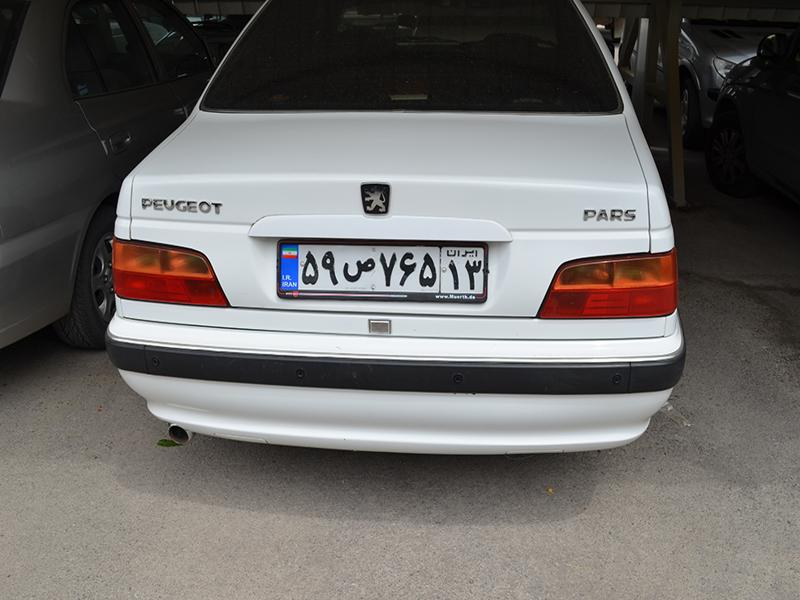Plate: (267, 235, 499, 314)
